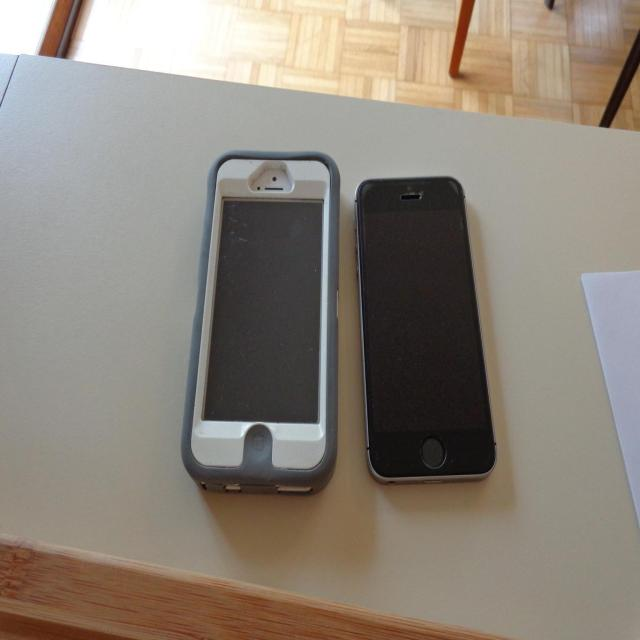Phone: (183, 150, 341, 490), (355, 172, 498, 482)
